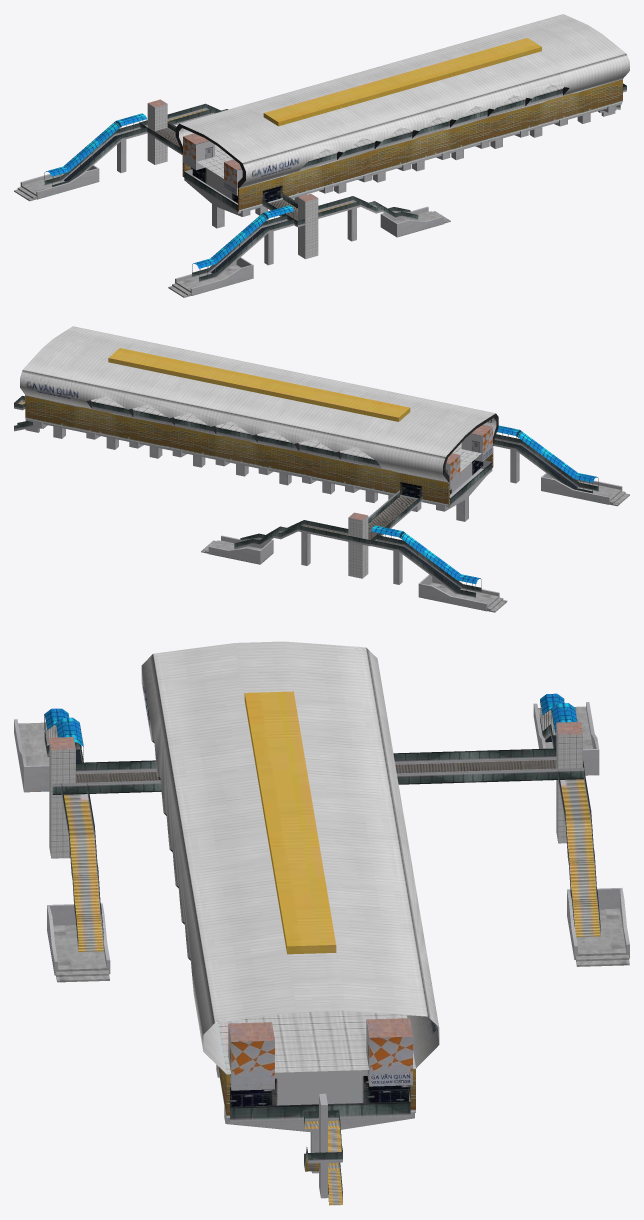
The picture shows the model from 3 angles, top to bottom: view 1: azimuth 30°, elevation 25°; view 2: azimuth 150°, elevation 25°; view 3: azimuth 270°, elevation 25°; orthographic projection. The views are drawn at different scales.
Parts seen in each view (by area): view 1: HN1262____Van_Quan_Metro_Station__MRT_1_; view 2: HN1262____Van_Quan_Metro_Station__MRT_1_; view 3: HN1262____Van_Quan_Metro_Station__MRT_1_.
Part boxes in pixels (x1,y1,x2,y2): HN1262____Van_Quan_Metro_Station__MRT_1_: [14, 14, 629, 297]; HN1262____Van_Quan_Metro_Station__MRT_1_: [14, 326, 629, 612]; HN1262____Van_Quan_Metro_Station__MRT_1_: [14, 641, 629, 1205].
Size of the model in its own units: 134 by 22.19 by 70.31.
Materials: 1 (1 with a texture image).
